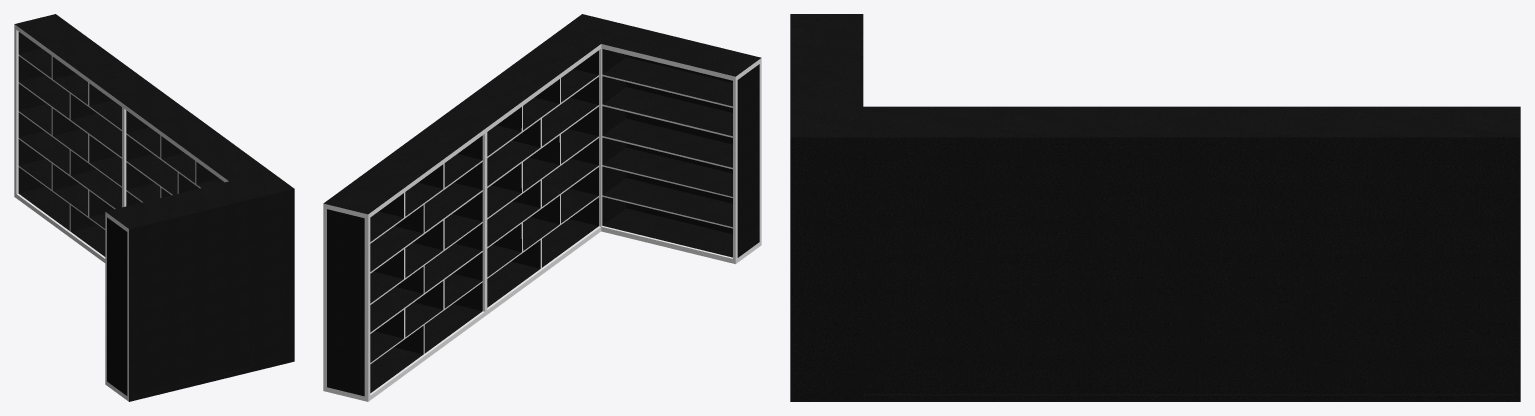
The model's file is Shelf_03.FBX.
The picture shows the model from 3 angles, left to right: view 1: azimuth 30°, elevation 25°; view 2: azimuth 150°, elevation 25°; view 3: azimuth 270°, elevation 25°; orthographic projection. The views are drawn at different scales.
Parts seen in each view (by area): view 1: Shelf_03; view 2: Shelf_03; view 3: Shelf_03.
Boxes of the visible parts, x1,y1,x2,y2 form: Shelf_03: [14, 14, 294, 401]; Shelf_03: [323, 14, 761, 401]; Shelf_03: [790, 14, 1520, 401].
Bounding box in the file's own units: 157 × 157 × 394.
